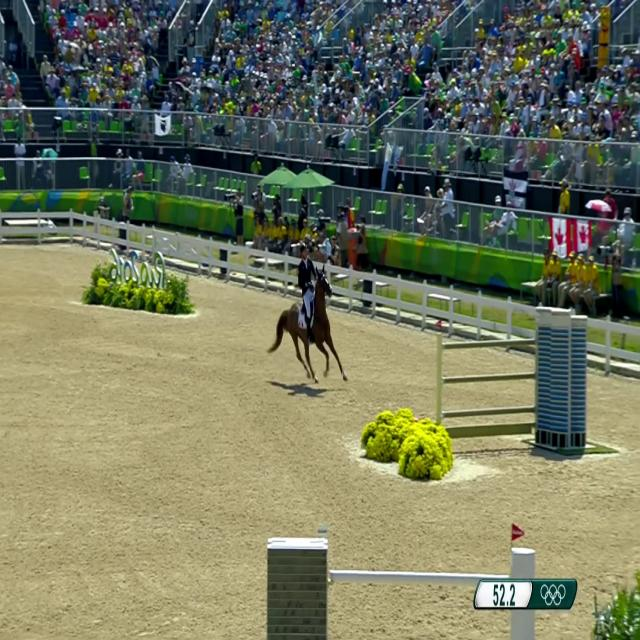Horse Running: (269, 267, 353, 403)
